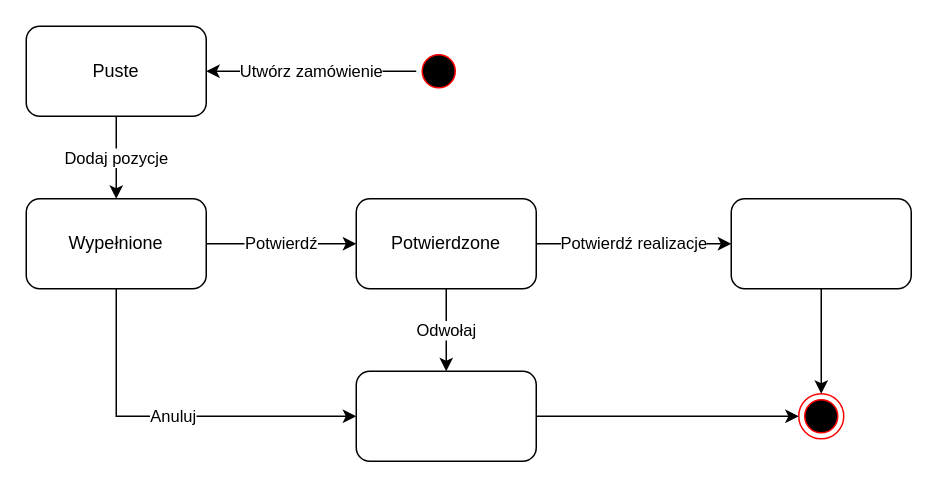
Some shapes in this 938 by 488 pixel diagram are drawn without their labels. Each missing label, with the box of its shape:
Anulowane: (355, 370, 536, 461)
Zrealizowane: (730, 197, 911, 289)
